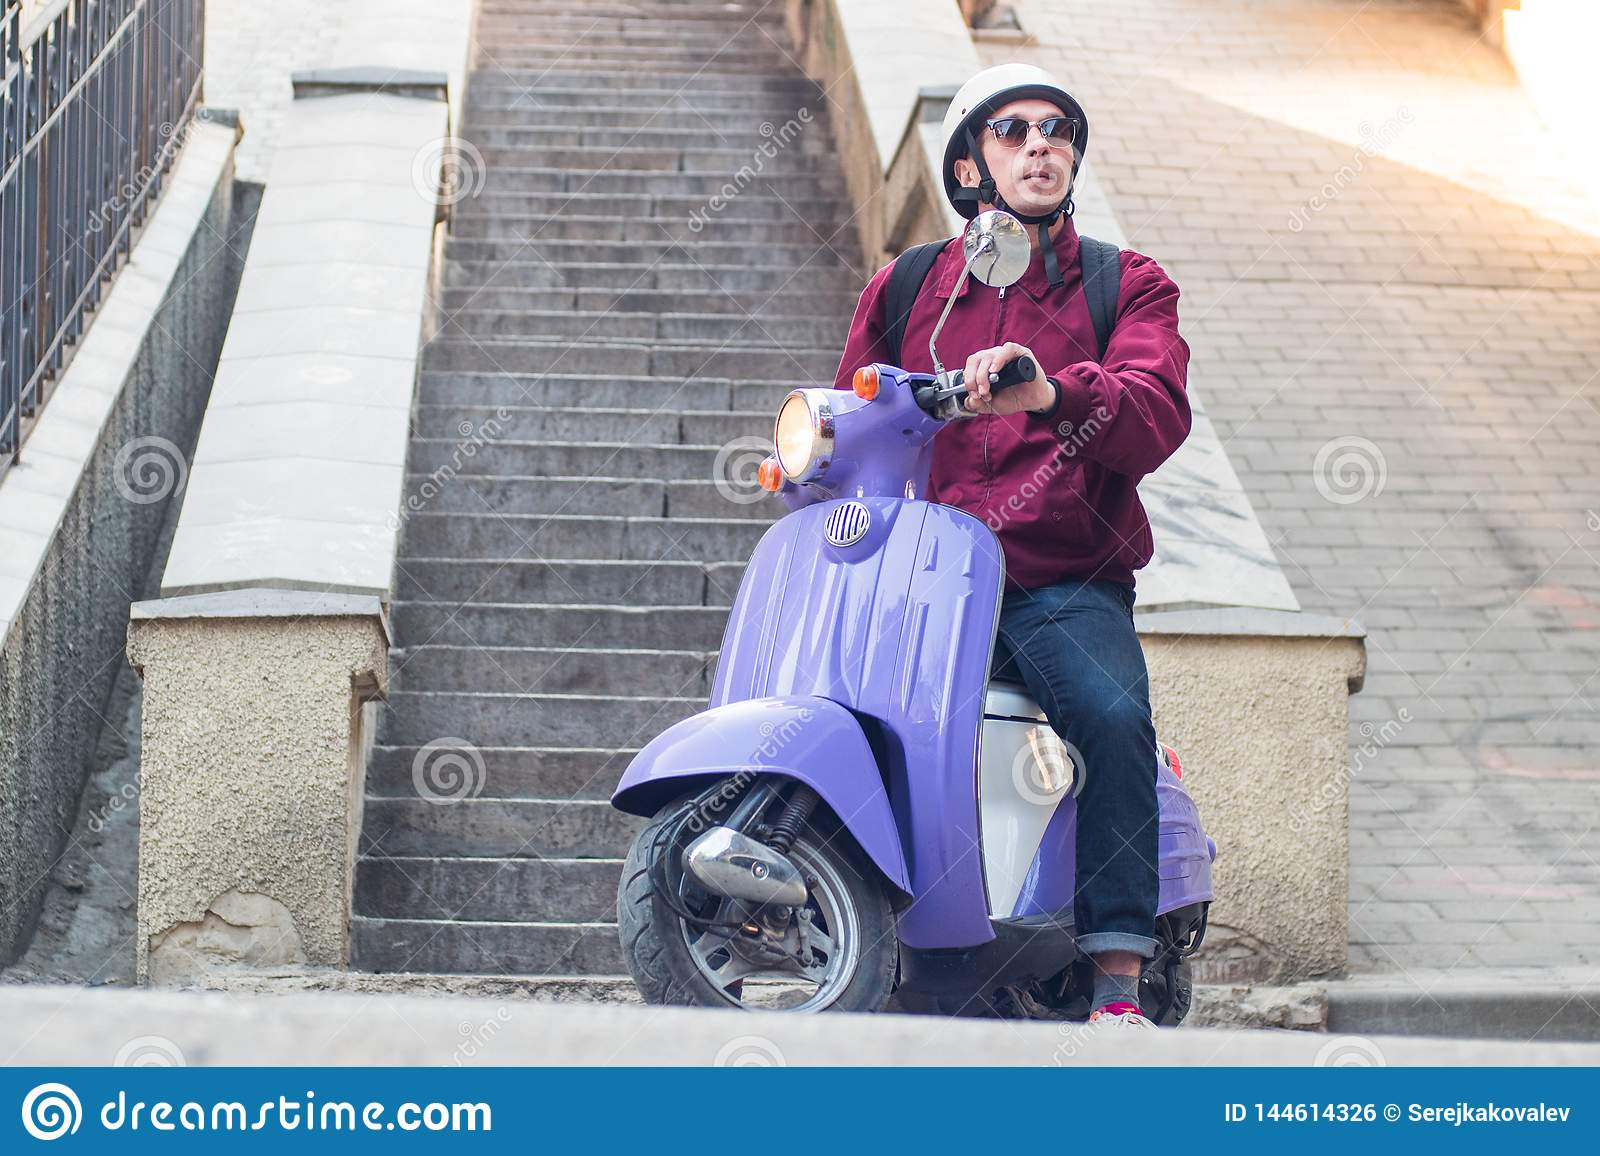helmet: (923, 75, 1084, 147)
